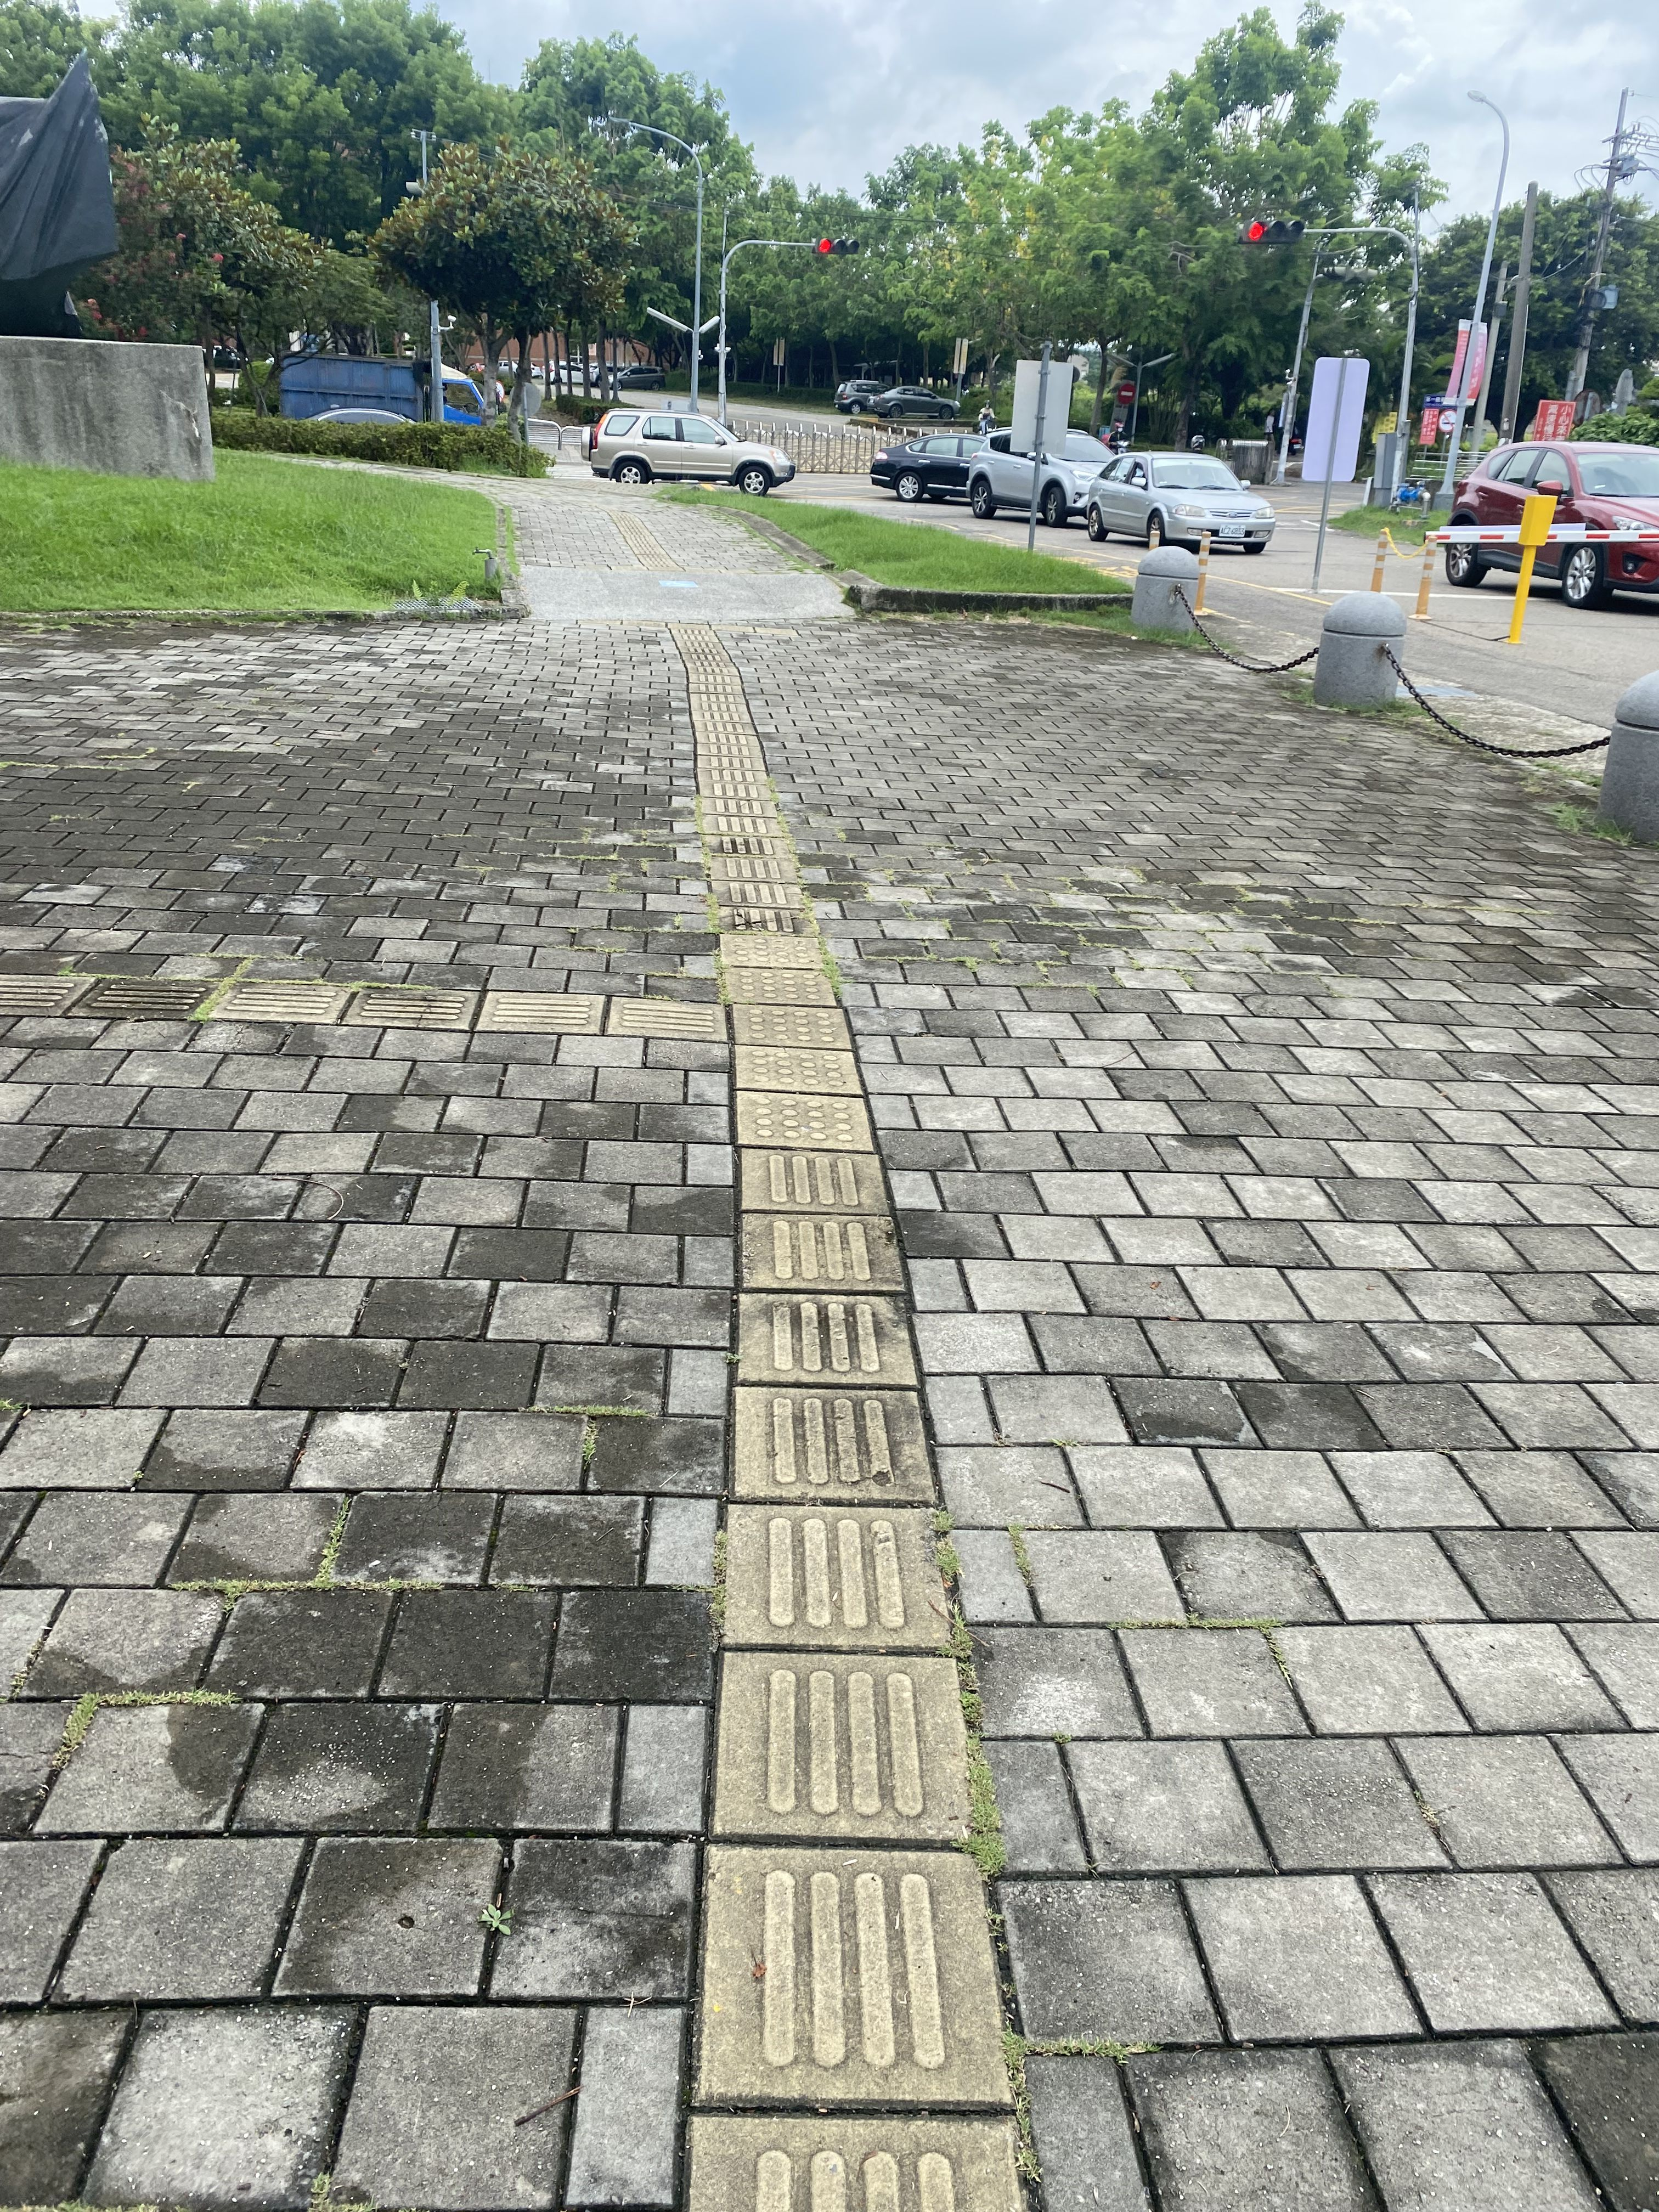0: (422, 460, 1014, 732)
sidewalk: (3, 610, 1659, 2212)
